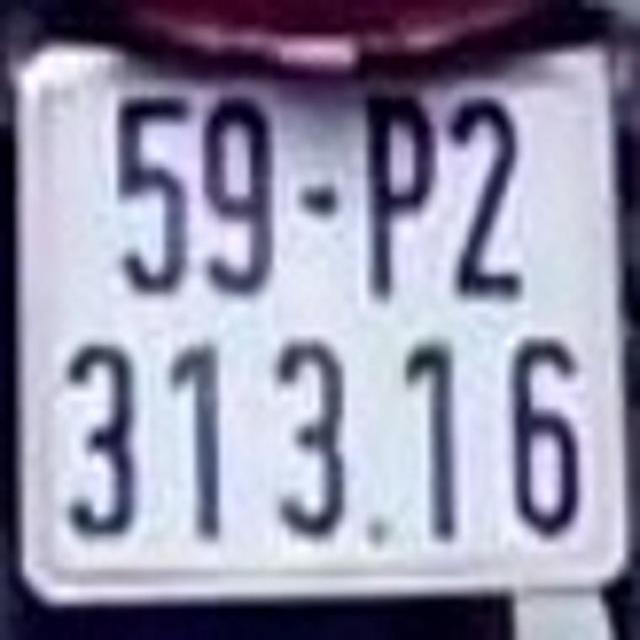1: (393, 334, 482, 540), (166, 328, 242, 548)
2: (446, 80, 526, 296)
3: (270, 332, 350, 554), (56, 328, 140, 539)
5: (104, 80, 196, 304)
6: (506, 327, 593, 547)
9: (193, 74, 283, 304)
P: (350, 80, 438, 290)
